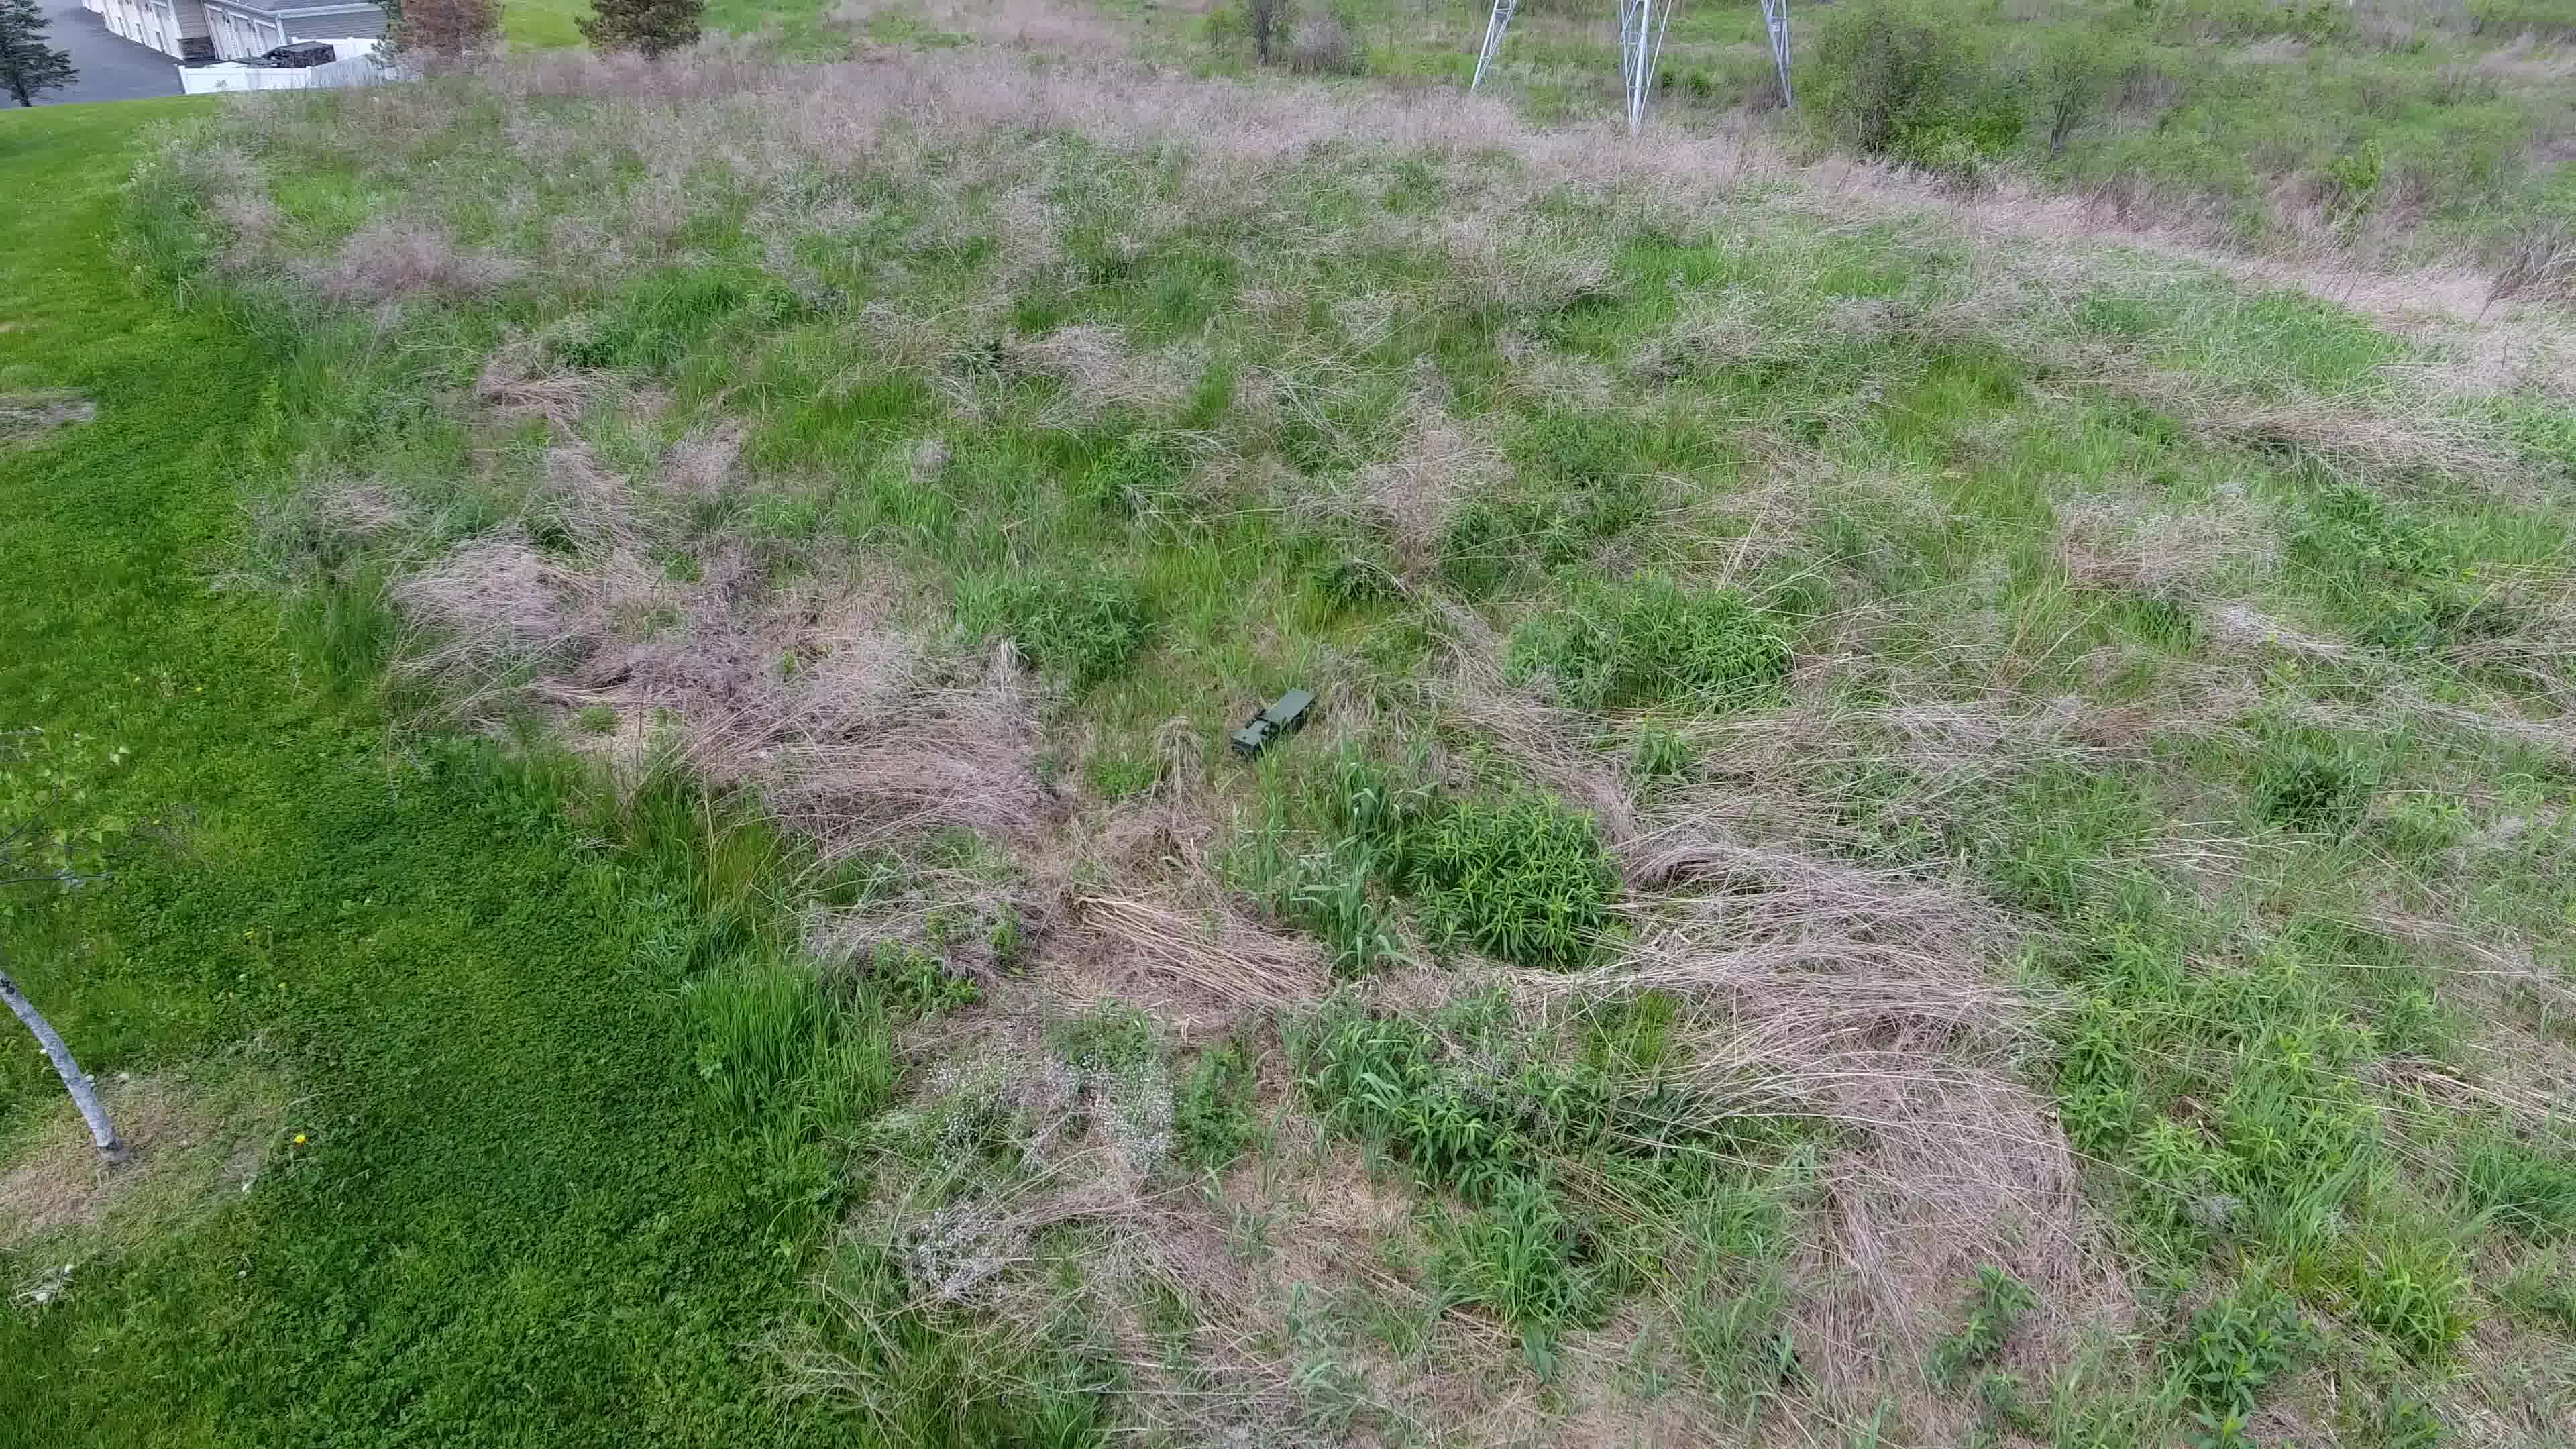transporter9: (1226, 685, 1322, 761)
